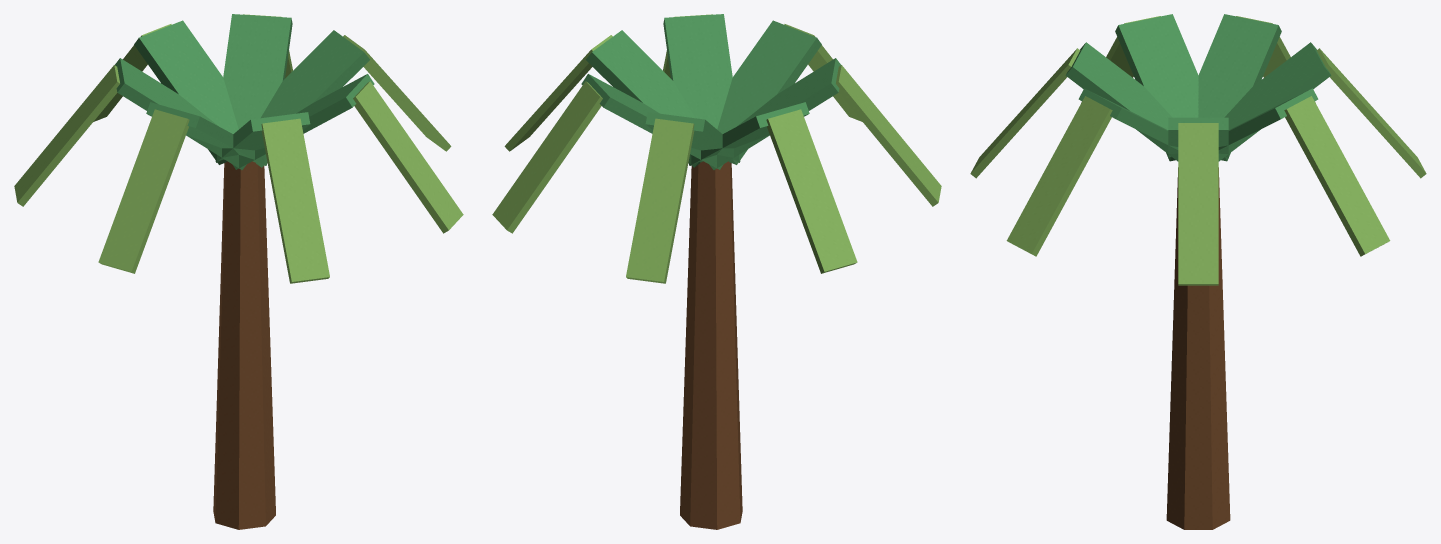
The model's file is innerscene-low-poly-palm.glb.
3 views of the same model, side by side, from view 1: azimuth 30°, elevation 25°; view 2: azimuth 150°, elevation 25°; view 3: azimuth 270°, elevation 25° (orthographic).
Parts seen in each view (by area): view 1: Faceted trunk 001, Palm frond tip 013, Palm frond tip 011, Palm frond 004, Palm frond 006, Palm frond tip 015, Palm frond 002, Palm frond tip 009, Palm frond 008, Palm frond 014, Palm frond tip 003, Palm frond 010 (+2 smaller); view 2: Faceted trunk 001, Palm frond tip 007, Palm frond tip 009, Palm frond 014, Palm frond 012, Palm frond tip 005, Palm frond 002, Palm frond tip 011, Palm frond 010, Palm frond 004, Palm frond tip 003, Palm frond 008 (+2 smaller); view 3: Faceted trunk 001, Palm frond tip 003, Palm frond tip 005, Palm frond tip 015, Palm frond 008, Palm frond 010, Palm frond 006, Palm frond 012, Palm frond tip 007, Palm frond tip 013, Palm frond 004, Palm frond 014 (+1 smaller).
Boxes of the visible parts, x1,y1,x2,y2 form: Faceted trunk 001: [213, 161, 275, 529]; Palm frond tip 013: [261, 118, 329, 283]; Palm frond tip 011: [98, 109, 189, 273]; Palm frond 004: [223, 14, 292, 129]; Palm frond 006: [134, 20, 238, 164]; Palm frond tip 015: [353, 81, 463, 233]; Palm frond 002: [255, 30, 370, 167]; Palm frond tip 009: [14, 65, 119, 206]; Palm frond 008: [115, 58, 246, 169]; Palm frond 014: [232, 74, 374, 169]; Palm frond tip 003: [343, 35, 451, 151]; Palm frond 010: [146, 102, 267, 165]; Faceted trunk 001: [680, 161, 742, 529]; Palm frond tip 007: [626, 118, 694, 283]; Palm frond tip 009: [766, 109, 857, 273]; Palm frond 014: [663, 14, 732, 129]; Palm frond 012: [717, 20, 821, 164]; Palm frond tip 005: [492, 81, 602, 233]; Palm frond 002: [585, 30, 700, 167]; Palm frond tip 011: [836, 65, 941, 206]; Palm frond 010: [709, 58, 840, 169]; Palm frond 004: [581, 74, 723, 169]; Palm frond tip 003: [504, 35, 612, 151]; Palm frond 008: [688, 102, 809, 165]; Faceted trunk 001: [1166, 167, 1230, 529]; Palm frond tip 003: [1178, 123, 1218, 285]; Palm frond tip 005: [1284, 96, 1390, 256]; Palm frond tip 015: [1006, 96, 1112, 256]; Palm frond 008: [1198, 14, 1281, 161]; Palm frond 010: [1115, 14, 1198, 161]; Palm frond 006: [1218, 42, 1331, 161]; Palm frond 012: [1065, 42, 1178, 161]; Palm frond tip 007: [1316, 48, 1426, 178]; Palm frond tip 013: [970, 48, 1080, 178]; Palm frond 004: [1218, 88, 1318, 149]; Palm frond 014: [1078, 88, 1178, 149].
Bounding box in the file's own units: 3.54 × 3.96 × 3.63.
3 materials, 3 textured.
